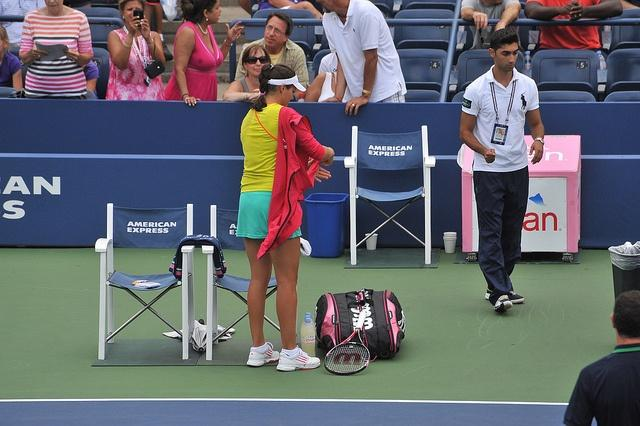Kursi: (93, 201, 195, 361), (342, 124, 435, 265), (201, 204, 250, 362)
